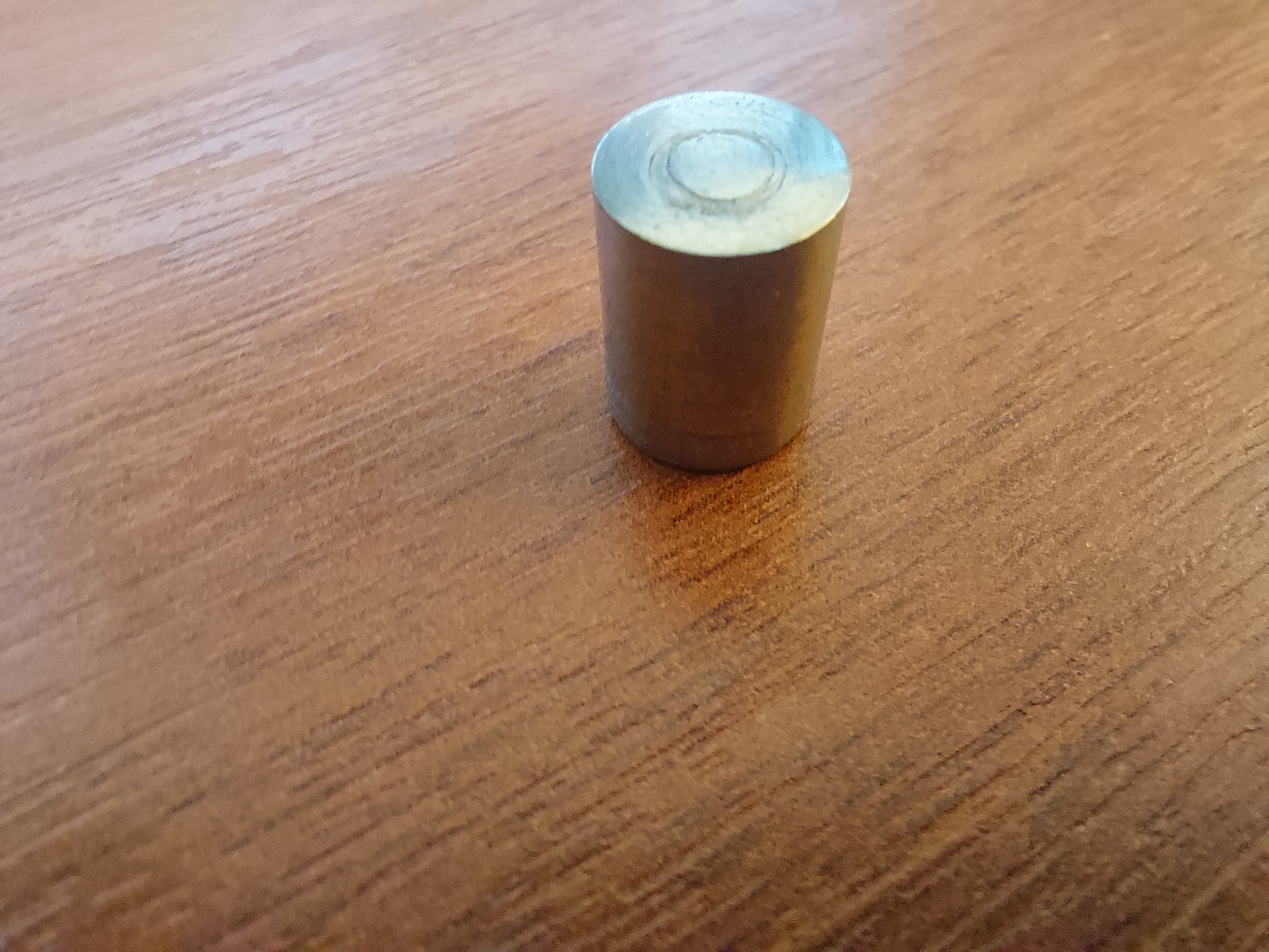tablet: (583, 93, 861, 495)
